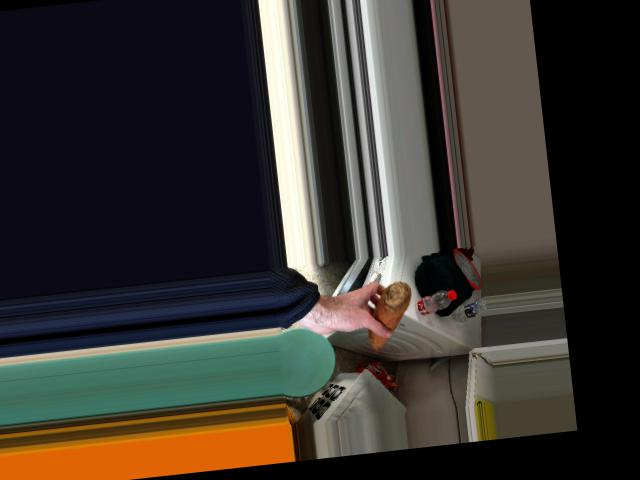sweet_potato: (365, 280, 418, 350)
